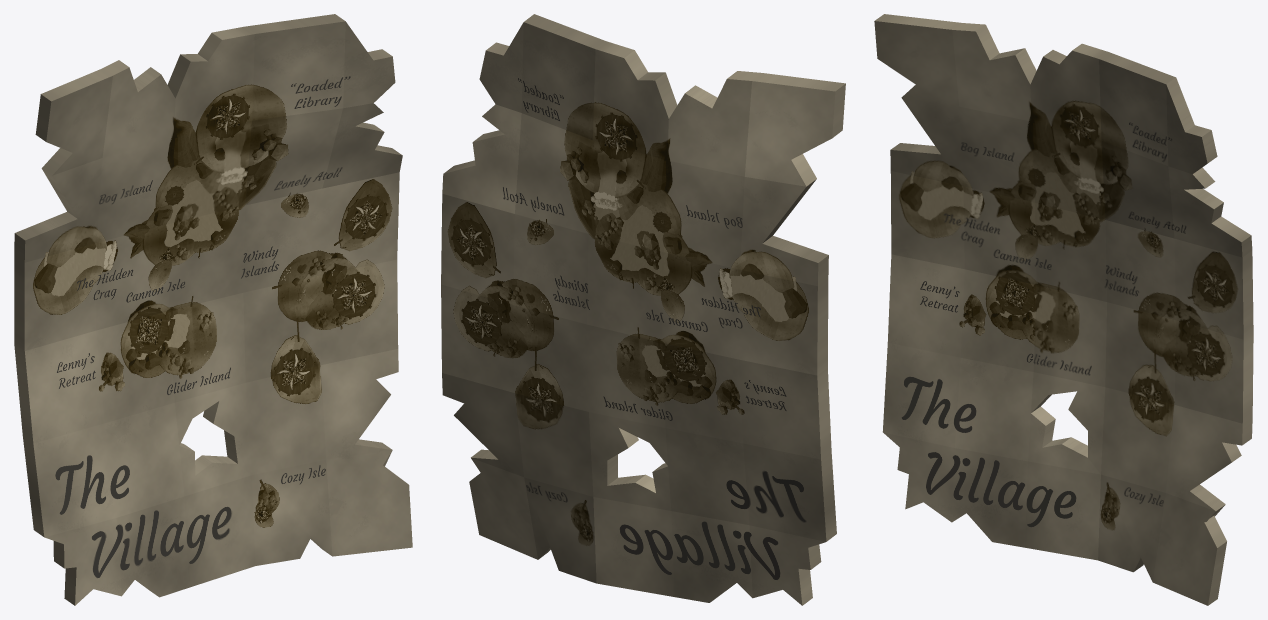
File: map.fbx
3 views of the same model, side by side, from view 1: azimuth 30°, elevation 25°; view 2: azimuth 150°, elevation 25°; view 3: azimuth 330°, elevation 25° (orthographic). The views are drawn at different scales.
Parts seen in each view (by area): view 1: Plane; view 2: Plane; view 3: Plane.
Part boxes in pixels (<box>): Plane: <box>14,14,412,605</box>; Plane: <box>441,14,845,605</box>; Plane: <box>874,14,1253,605</box>.
Size of the model in its own units: 29.55 by 40.02 by 5.7.
